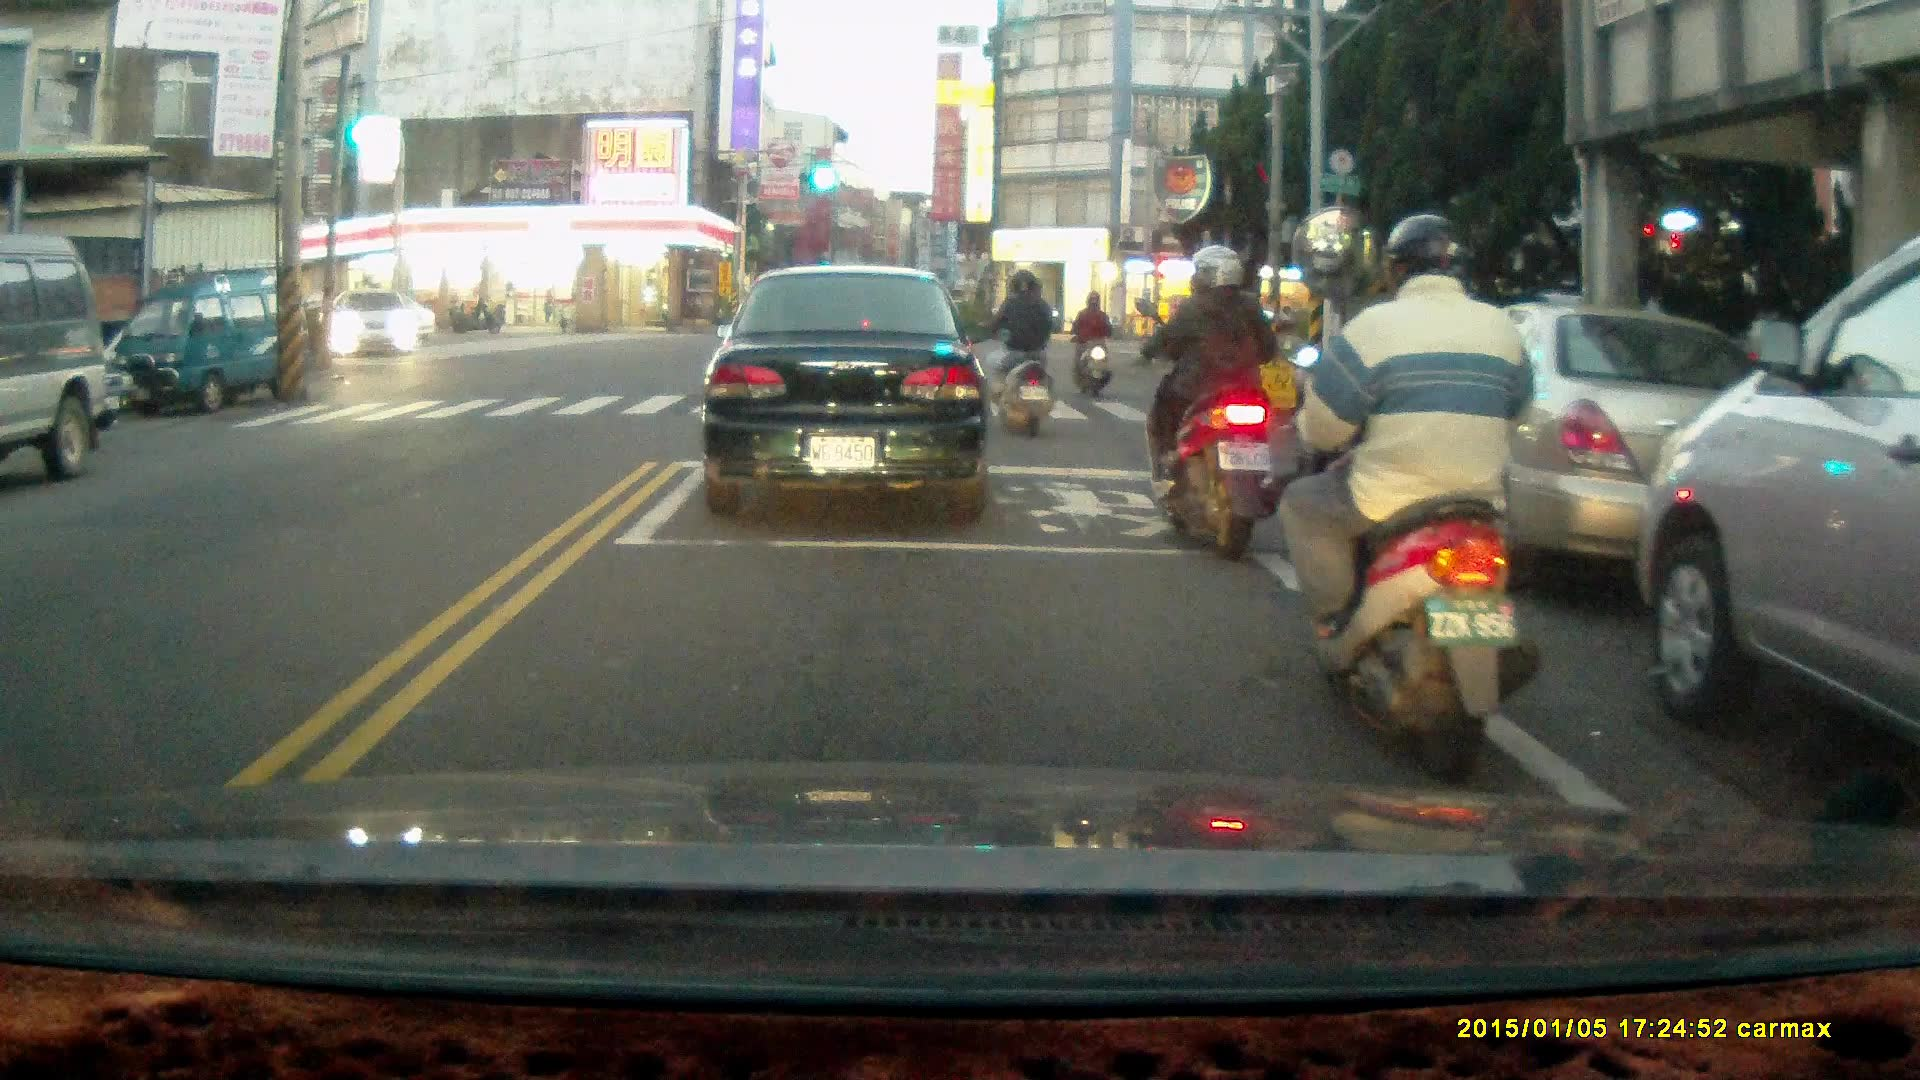rider: (1279, 214, 1543, 782), (1135, 243, 1295, 568), (987, 267, 1053, 438), (1073, 287, 1114, 400)
vehicle: (1634, 232, 1920, 753), (1398, 306, 1814, 599), (697, 262, 991, 524), (1, 234, 116, 484), (112, 263, 291, 414), (328, 290, 420, 361)
